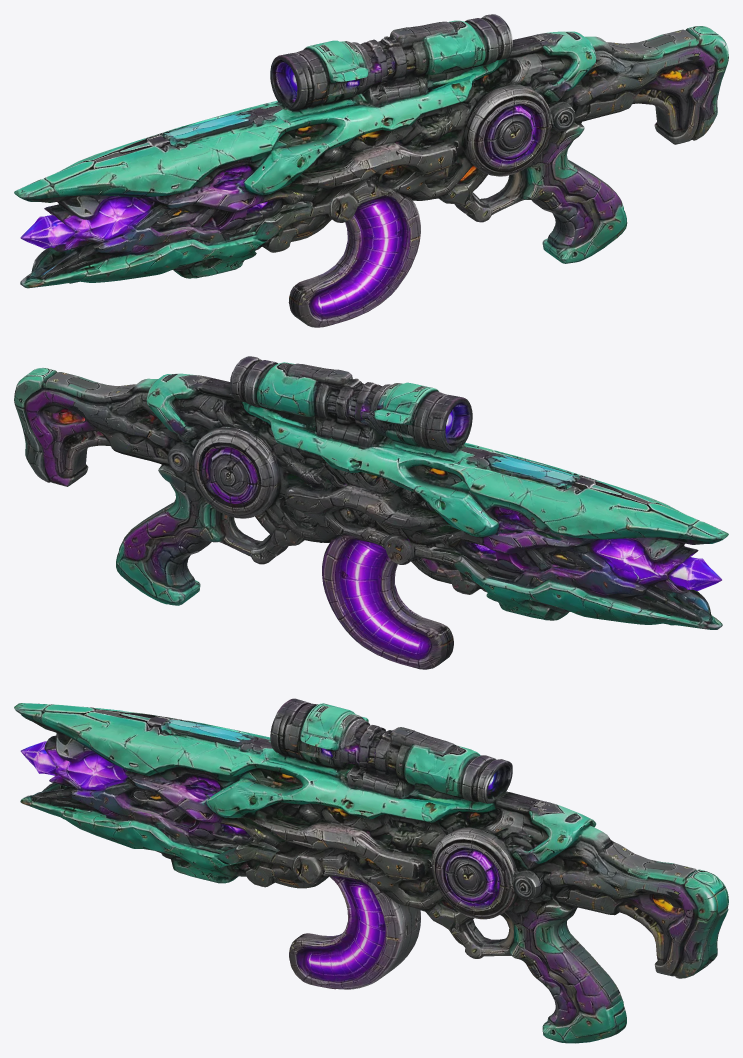
The model's file is weapon-singularity.glb.
3 renders of one model, top to bottom at view 1: azimuth 30°, elevation 25°; view 2: azimuth 150°, elevation 25°; view 3: azimuth 330°, elevation 25°, orthographic.
Size of the model in its own units: 1.9 by 0.7025 by 0.241.
Materials: 1 (1 with a texture image).
